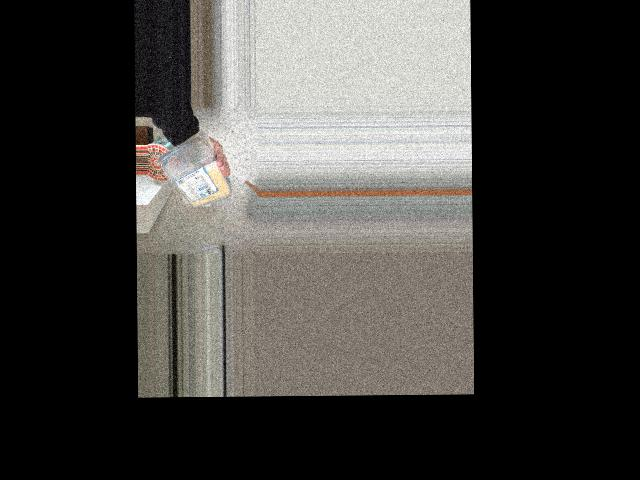cheese: (156, 139, 223, 214)
